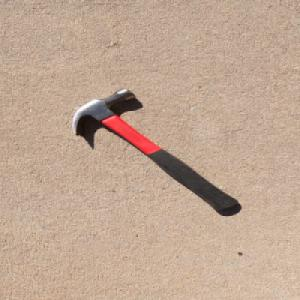Hammer: (69, 85, 242, 212)
